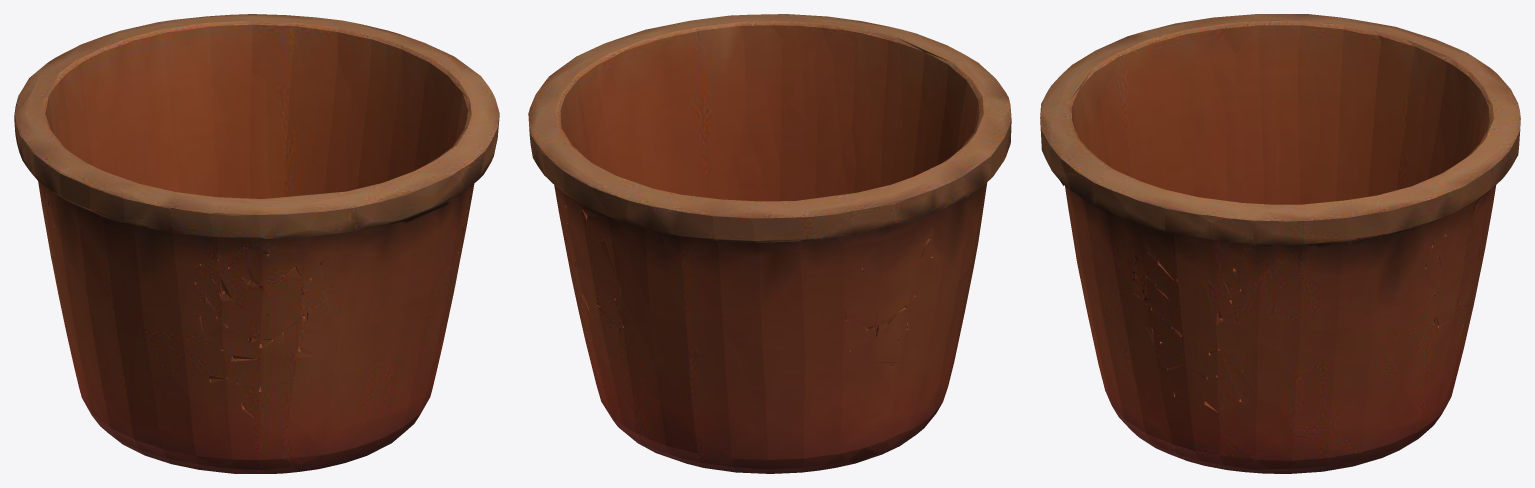
Rendered from orange_cup_on_dresser_000.glb.
3 views of the same model, side by side, from view 1: azimuth 30°, elevation 25°; view 2: azimuth 150°, elevation 25°; view 3: azimuth 270°, elevation 25° (orthographic).
Parts seen in each view (by area): view 1: orange_cup_on_dresser_000.obj; view 2: orange_cup_on_dresser_000.obj; view 3: orange_cup_on_dresser_000.obj.
Part boxes in pixels (bbox=[...]): orange_cup_on_dresser_000.obj: bbox=[14, 14, 499, 473]; orange_cup_on_dresser_000.obj: bbox=[528, 14, 1011, 473]; orange_cup_on_dresser_000.obj: bbox=[1040, 14, 1520, 473].
Size of the model in its own units: 0.065 by 0.0457 by 0.065.
Materials: 1 (1 with a texture image).
